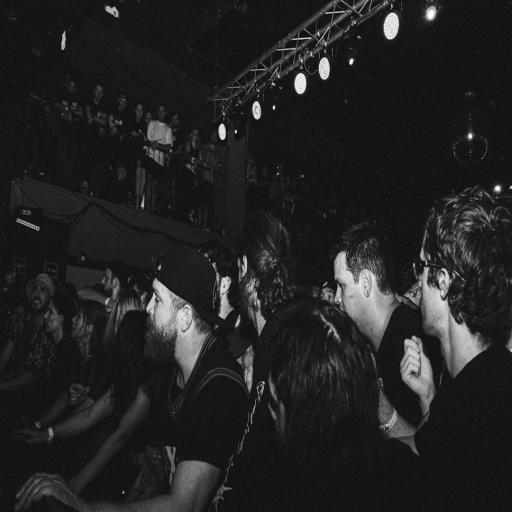face: (145, 279, 177, 365), (334, 253, 363, 329), (31, 284, 50, 313), (45, 302, 62, 333), (71, 310, 87, 340), (101, 269, 113, 296)
